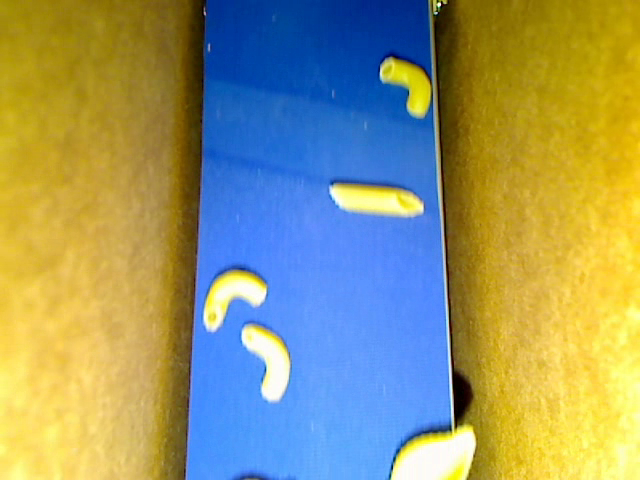elbow: (200, 268, 266, 333), (240, 323, 292, 403), (379, 56, 432, 119)
penne: (328, 181, 424, 216)
